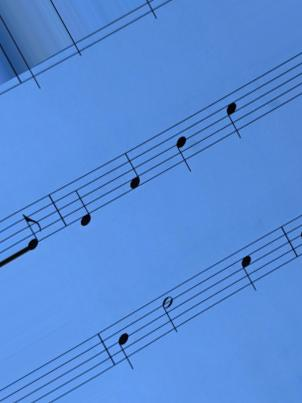note: (171, 121, 197, 182), (69, 177, 97, 232), (114, 319, 139, 377), (237, 245, 261, 305), (221, 94, 245, 152), (118, 149, 146, 198)
